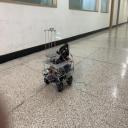cart: (41, 56, 74, 92)
